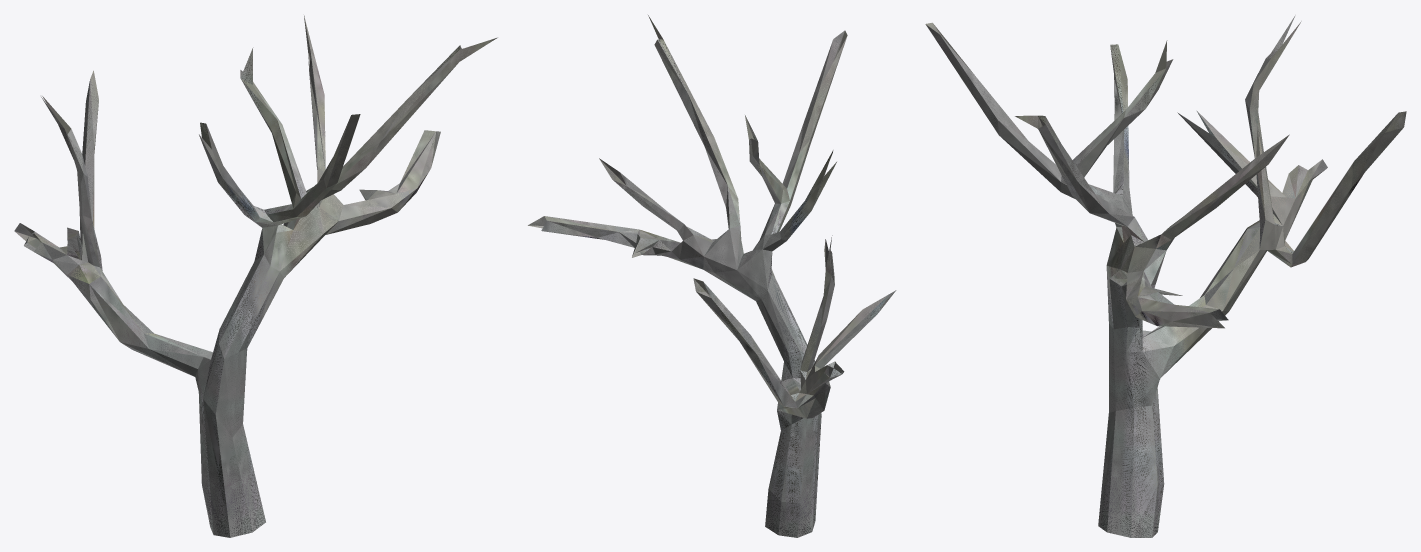
Rendered from tree.dae.
3 views of the same model, side by side, from view 1: azimuth 30°, elevation 25°; view 2: azimuth 150°, elevation 25°; view 3: azimuth 270°, elevation 25° (orthographic). The views are drawn at different scales.
Parts seen in each view (by area): view 1: objArch31_; view 2: objArch31_; view 3: objArch31_.
Part boxes in pixels (x1,y1,x2,y2): objArch31_: [14, 15, 497, 537]; objArch31_: [528, 15, 896, 537]; objArch31_: [925, 15, 1406, 537].
Bounding box in the file's own units: 0.939 × 0.913 × 1.11.
2 materials, 2 textured.
